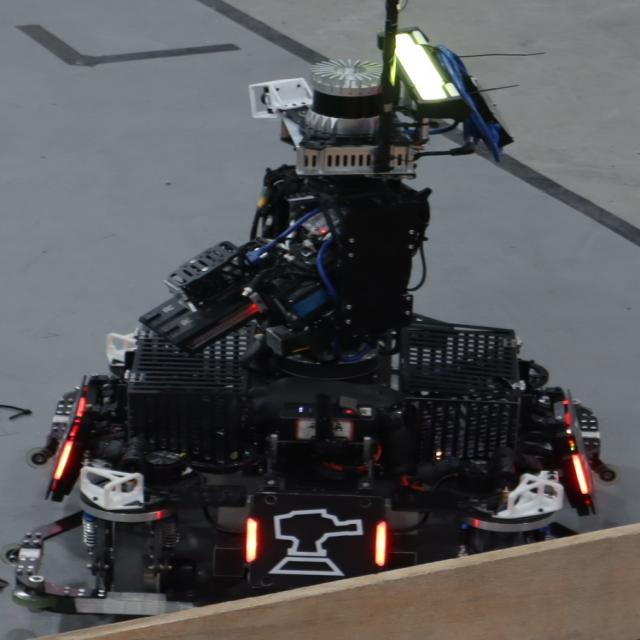Rs: (244, 506, 387, 584)
